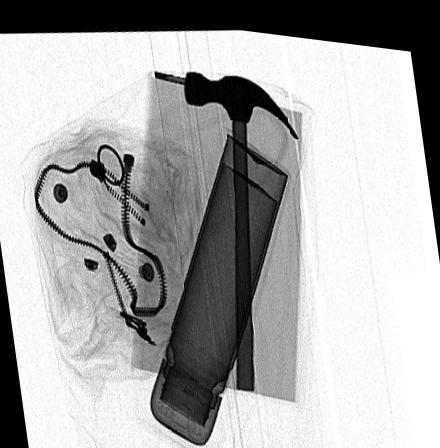Hammer: (183, 66, 300, 384)
